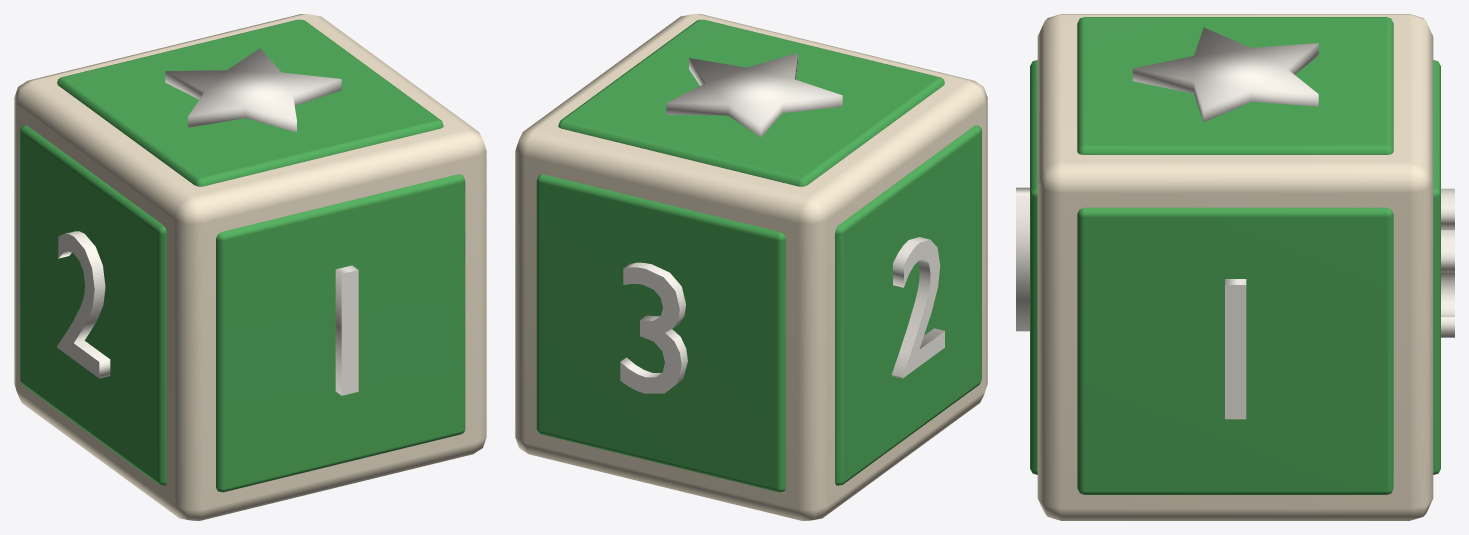
The model's file is toy_block_green.glb.
3 views of the same model, side by side, from view 1: azimuth 30°, elevation 25°; view 2: azimuth 150°, elevation 25°; view 3: azimuth 270°, elevation 25° (orthographic). The views are drawn at different scales.
Visible parts, largest first — view 1: toy_block_green; view 2: toy_block_green; view 3: toy_block_green.
Part boxes in pixels (<box>): toy_block_green: <box>14,14,486,520</box>; toy_block_green: <box>515,14,987,520</box>; toy_block_green: <box>1016,14,1454,520</box>.
Bounding box in the file's own units: 2.66 × 2.53 × 2.66.
